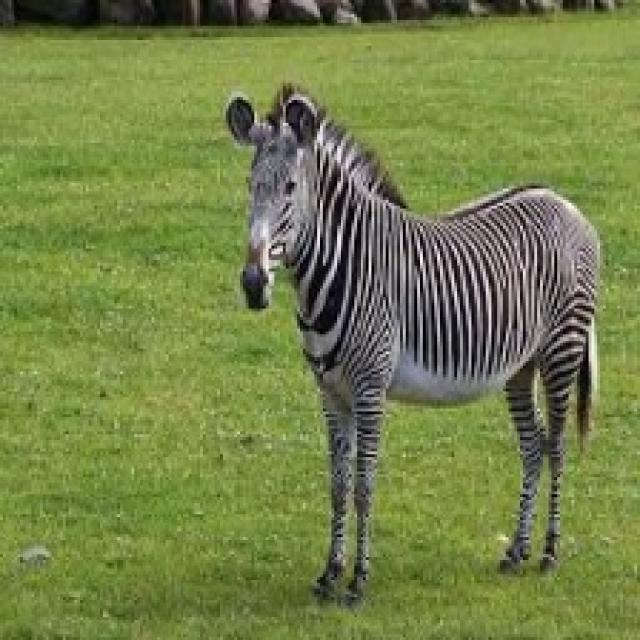bear: (215, 90, 608, 600)
